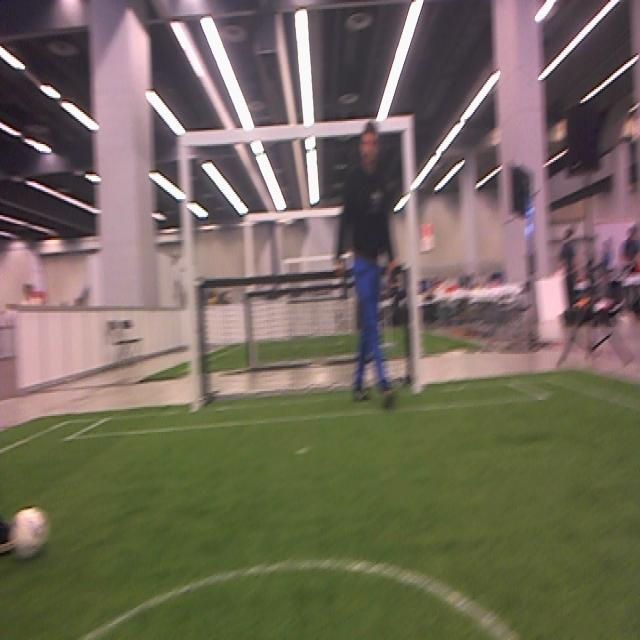ball: (4, 511, 49, 556)
goalpost: (178, 144, 201, 409), (400, 128, 421, 389)
